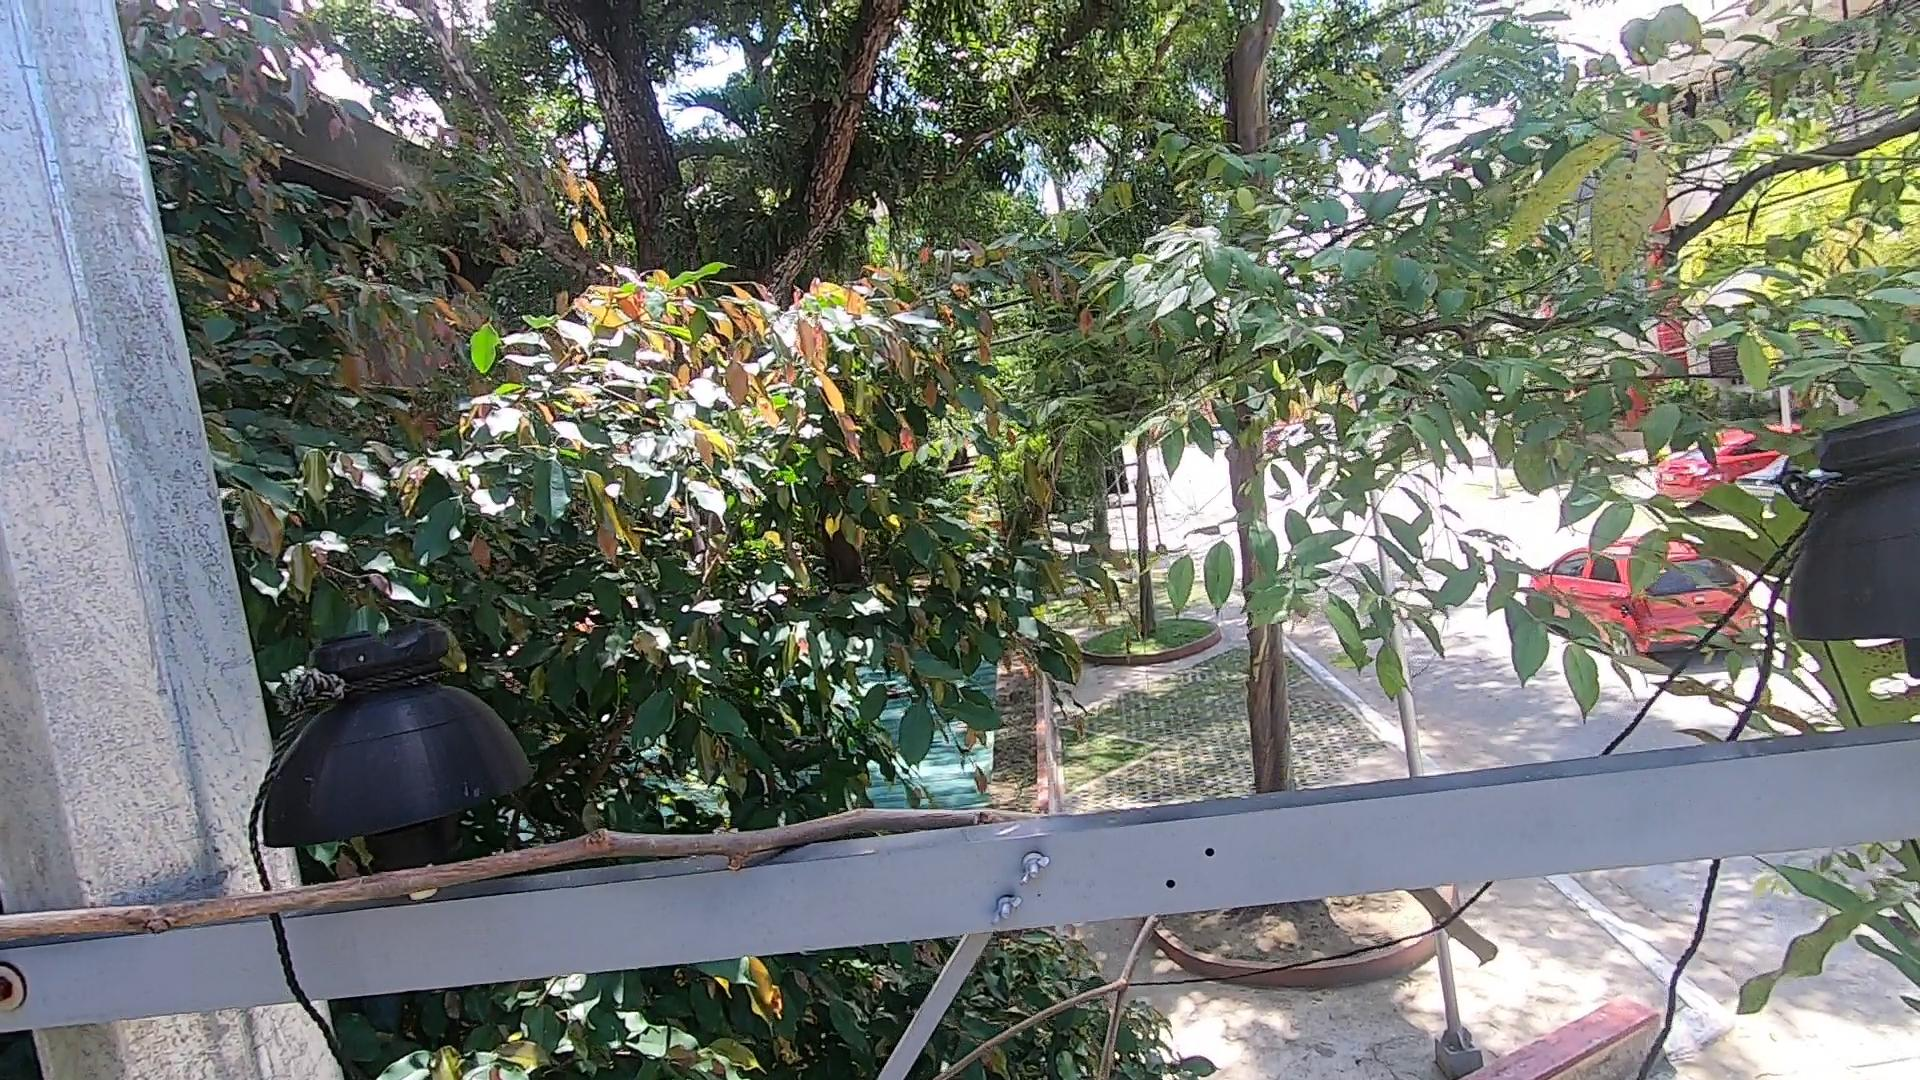tree branch: (1, 796, 1033, 945), (927, 913, 1182, 1077), (1396, 887, 1516, 965)
